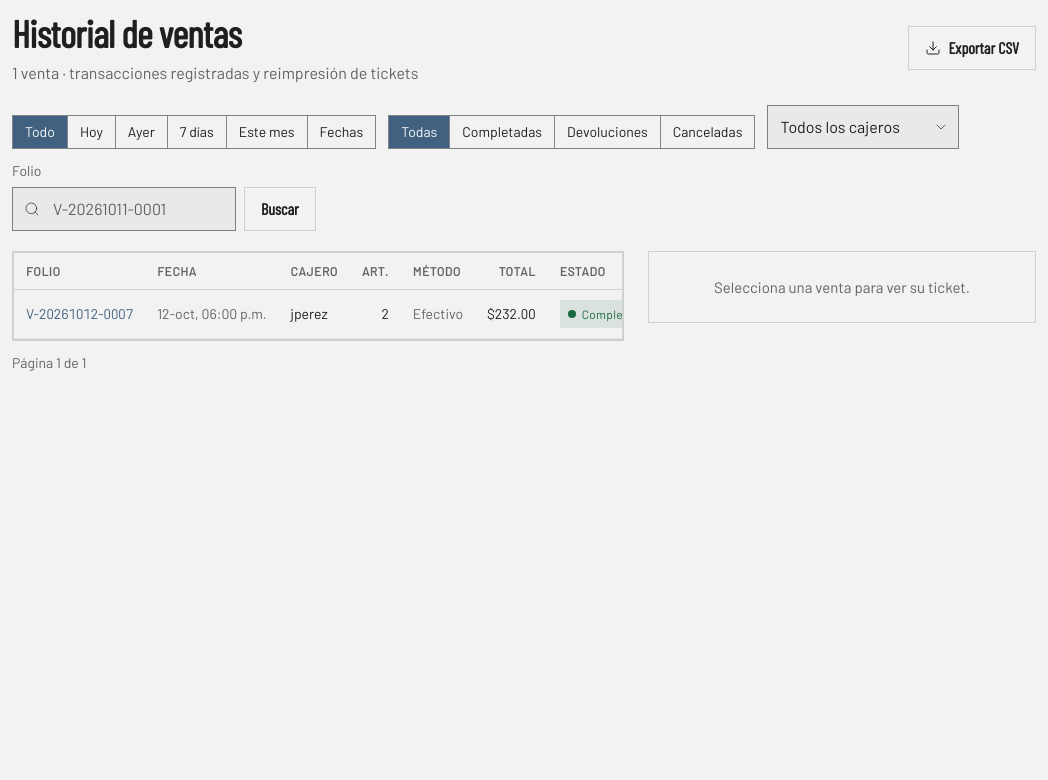
it: Historial de ventas › al elegir una venta muestra el ticket con subtotal, IVA y total
Click the button named "Ver venta V-20261012-0007": (80, 314) x1=26 y1=304 x2=133 y2=324
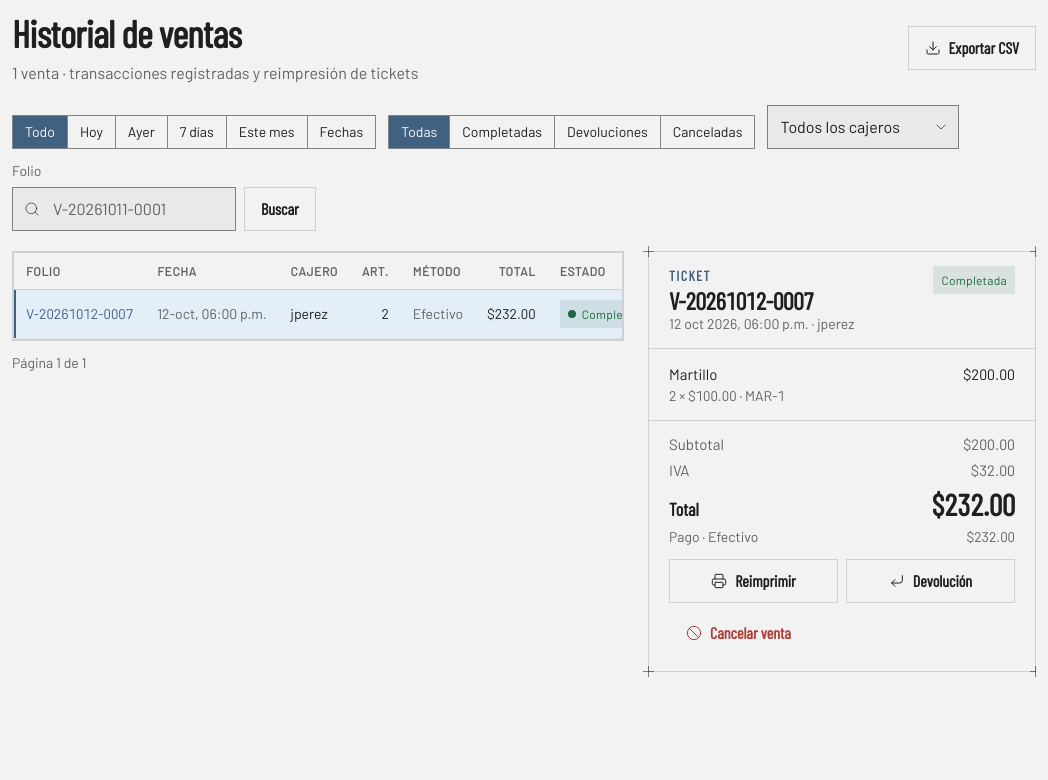
Expected: the text "Subtotal" is shown, x1=669 y1=433 x2=724 y2=455
Expected: the text "IVA" is shown, x1=669 y1=459 x2=689 y2=482
Expected: the button "Devolución" is shown, x1=846 y1=559 x2=1015 y2=603
